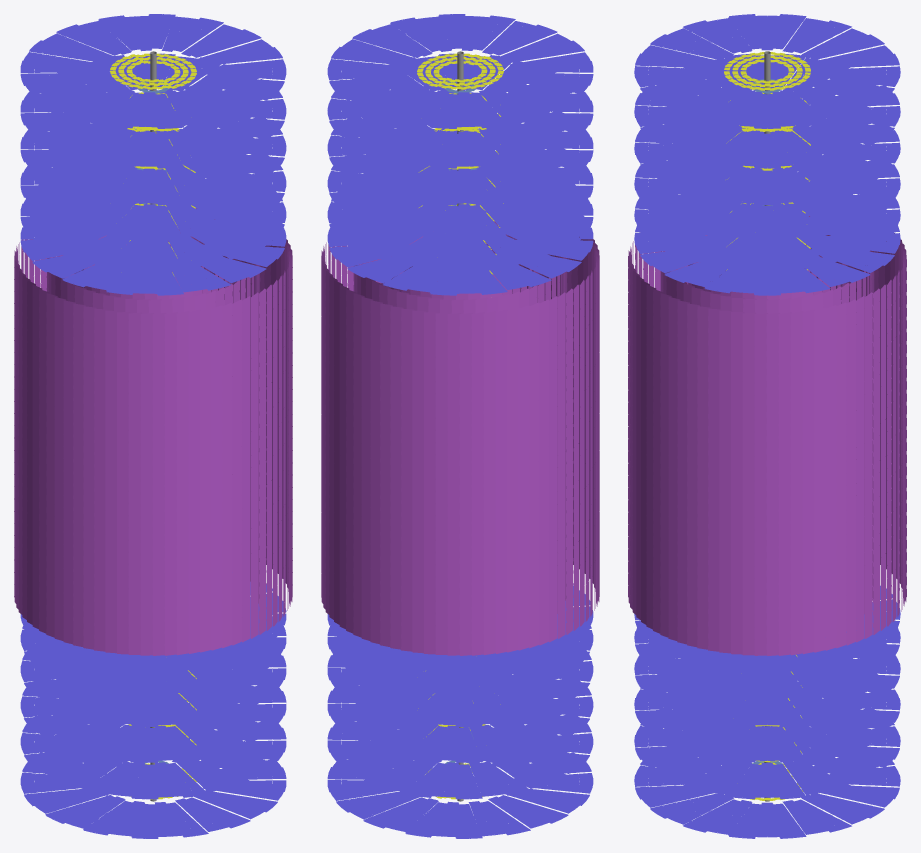
The model's file is ITK.glb.
The picture shows the model from 3 angles, left to right: view 1: azimuth 30°, elevation 25°; view 2: azimuth 150°, elevation 25°; view 3: azimuth 270°, elevation 25°; orthographic projection.
Visible parts, largest first — view 1: Strips__Barrel_sensitives_l1.002, Strips__NegativeEndcap_sensitives_l1.002, Strips__PositiveEndcap_sensitives_l1.002, OuterPixels__NegativeEndcap__Ring0_sensitives_l1.002; view 2: Strips__Barrel_sensitives_l1.002, Strips__NegativeEndcap_sensitives_l1.002, Strips__PositiveEndcap_sensitives_l1.002, OuterPixels__NegativeEndcap__Ring0_sensitives_l1.002; view 3: Strips__Barrel_sensitives_l1.002, Strips__NegativeEndcap_sensitives_l1.002, Strips__PositiveEndcap_sensitives_l1.002, OuterPixels__NegativeEndcap__Ring0_sensitives_l1.002.
Part boxes in pixels (<box>): Strips__Barrel_sensitives_l1.002: <box>14,208,292,655</box>; Strips__NegativeEndcap_sensitives_l1.002: <box>20,14,286,295</box>; Strips__PositiveEndcap_sensitives_l1.002: <box>20,582,286,838</box>; OuterPixels__NegativeEndcap__Ring0_sensitives_l1.002: <box>110,53,196,276</box>; Strips__Barrel_sensitives_l1.002: <box>321,208,599,655</box>; Strips__NegativeEndcap_sensitives_l1.002: <box>327,14,593,295</box>; Strips__PositiveEndcap_sensitives_l1.002: <box>327,584,593,838</box>; OuterPixels__NegativeEndcap__Ring0_sensitives_l1.002: <box>417,53,503,274</box>; Strips__Barrel_sensitives_l1.002: <box>628,216,906,655</box>; Strips__NegativeEndcap_sensitives_l1.002: <box>634,14,900,295</box>; Strips__PositiveEndcap_sensitives_l1.002: <box>634,585,900,838</box>; OuterPixels__NegativeEndcap__Ring0_sensitives_l1.002: <box>724,52,810,270</box>.
Bounding box in the file's own units: 2.03 × 6 × 2.03.
